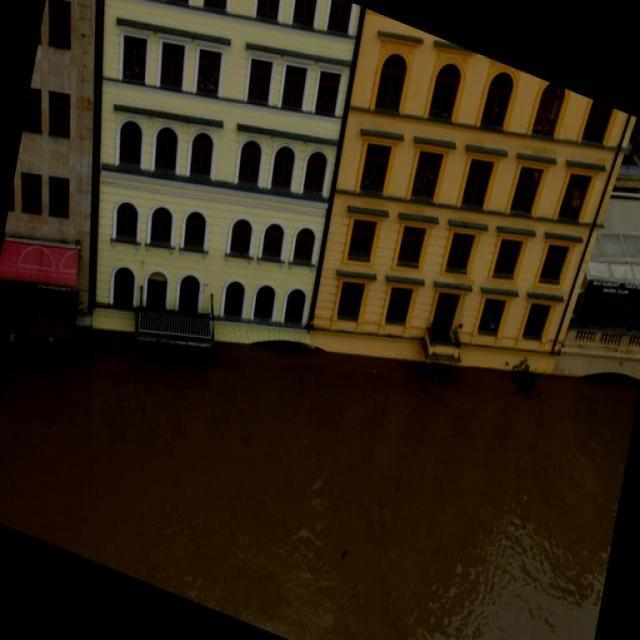flood: (0, 153, 638, 639)
